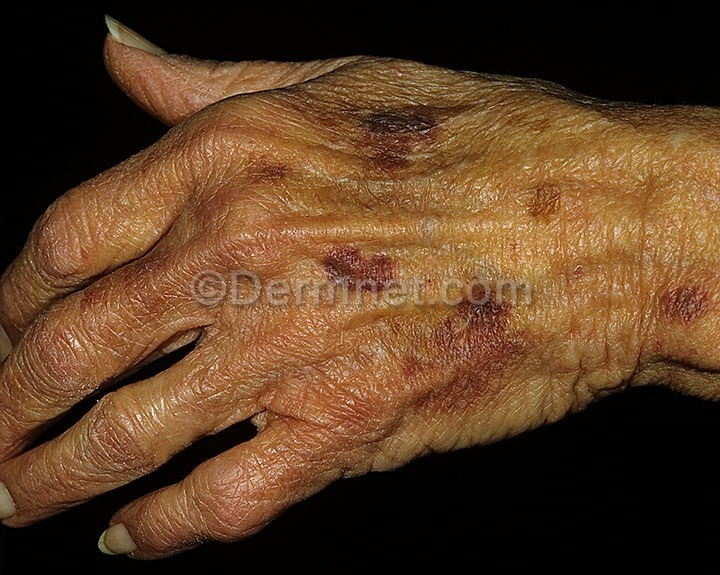Melasma: (314, 64, 440, 280), (427, 307, 541, 420), (82, 227, 169, 343), (644, 222, 712, 364), (534, 151, 575, 233)
